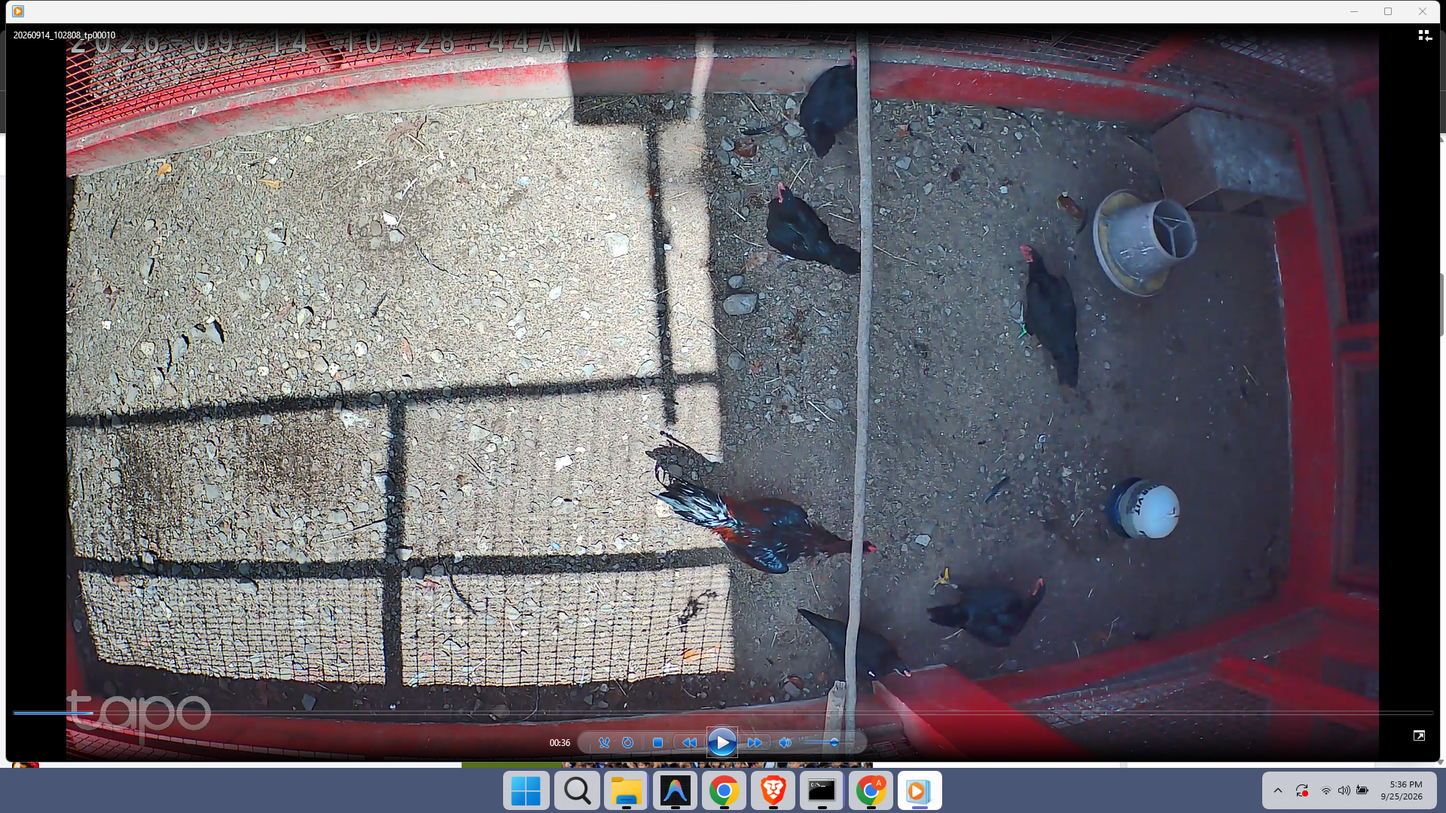Chicken: (1008, 242, 1082, 386), (925, 561, 1045, 647), (766, 181, 861, 277), (796, 606, 914, 680), (780, 46, 857, 158)
Drinker: (1103, 475, 1182, 545)
Feeder: (1089, 188, 1199, 301)
Rooster: (651, 479, 881, 575)
